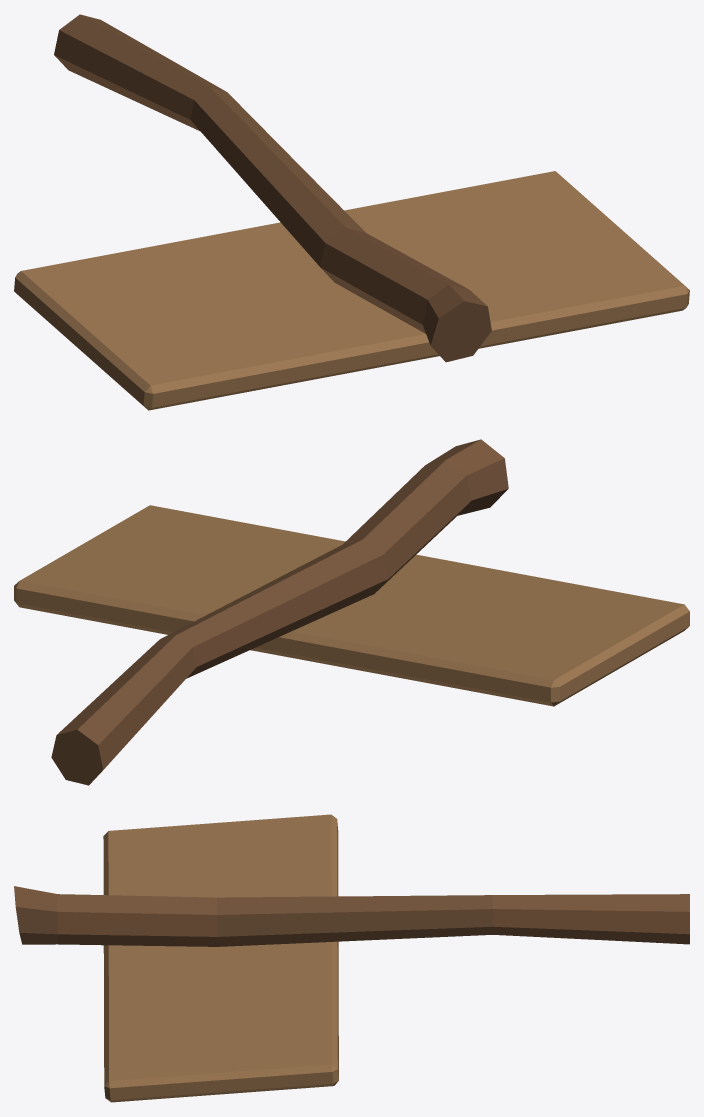
File: Panel_03.fbx
3 views of the same model, one above another, from view 1: azimuth 30°, elevation 25°; view 2: azimuth 150°, elevation 25°; view 3: azimuth 270°, elevation 25° (orthographic). The views are drawn at different scales.
Visible parts, largest first — view 1: Poteau 1*1 LOW Petit.002; view 2: Poteau 1*1 LOW Petit.002; view 3: Poteau 1*1 LOW Petit.002.
Boxes of the visible parts, bbox=[...] form: Poteau 1*1 LOW Petit.002: bbox=[14, 14, 689, 410]; Poteau 1*1 LOW Petit.002: bbox=[14, 439, 689, 785]; Poteau 1*1 LOW Petit.002: bbox=[14, 814, 689, 1102].
Size of the model in its own units: 63.82 by 13.43 by 79.74.
